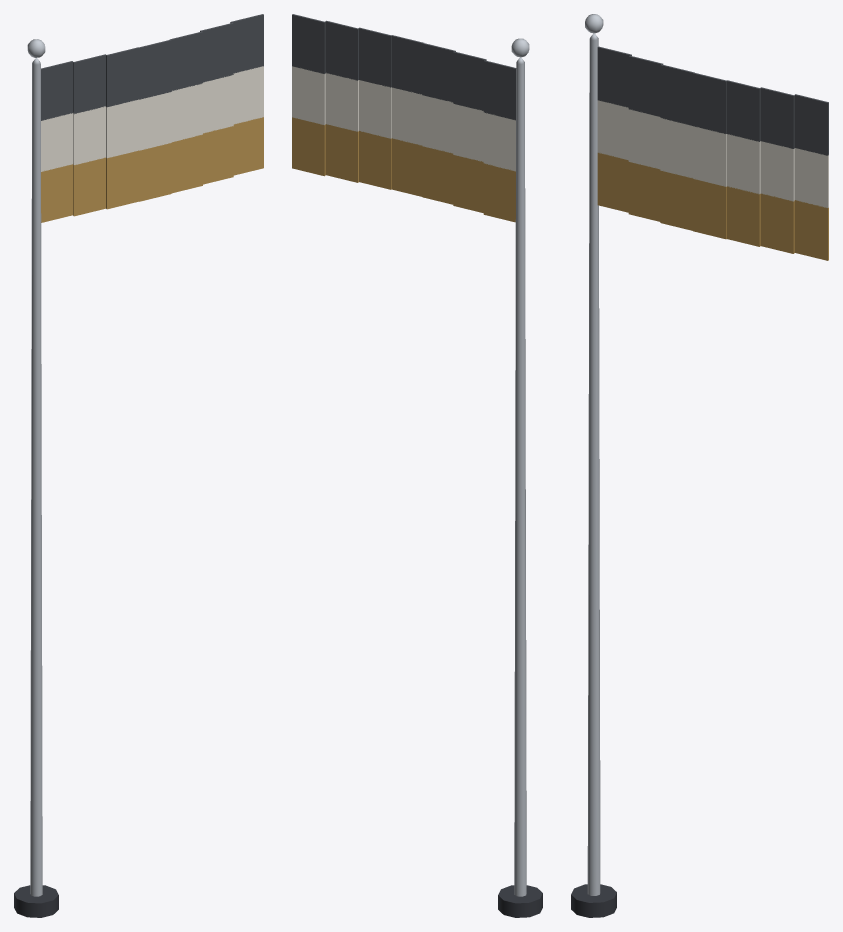
File: flag_roof.glb
The picture shows the model from 3 angles, left to right: view 1: azimuth 30°, elevation 25°; view 2: azimuth 150°, elevation 25°; view 3: azimuth 330°, elevation 25°; orthographic projection. The views are drawn at different scales.
Parts seen in each view (by area): view 1: flag_roof; view 2: flag_roof; view 3: flag_roof.
Part boxes in pixels (left/top/right/bottom): flag_roof: left=14, top=14, right=263, bottom=917; flag_roof: left=292, top=14, right=542, bottom=917; flag_roof: left=571, top=14, right=828, bottom=917.
Bounding box in the file's own units: 1.77 × 5.96 × 0.2663.
